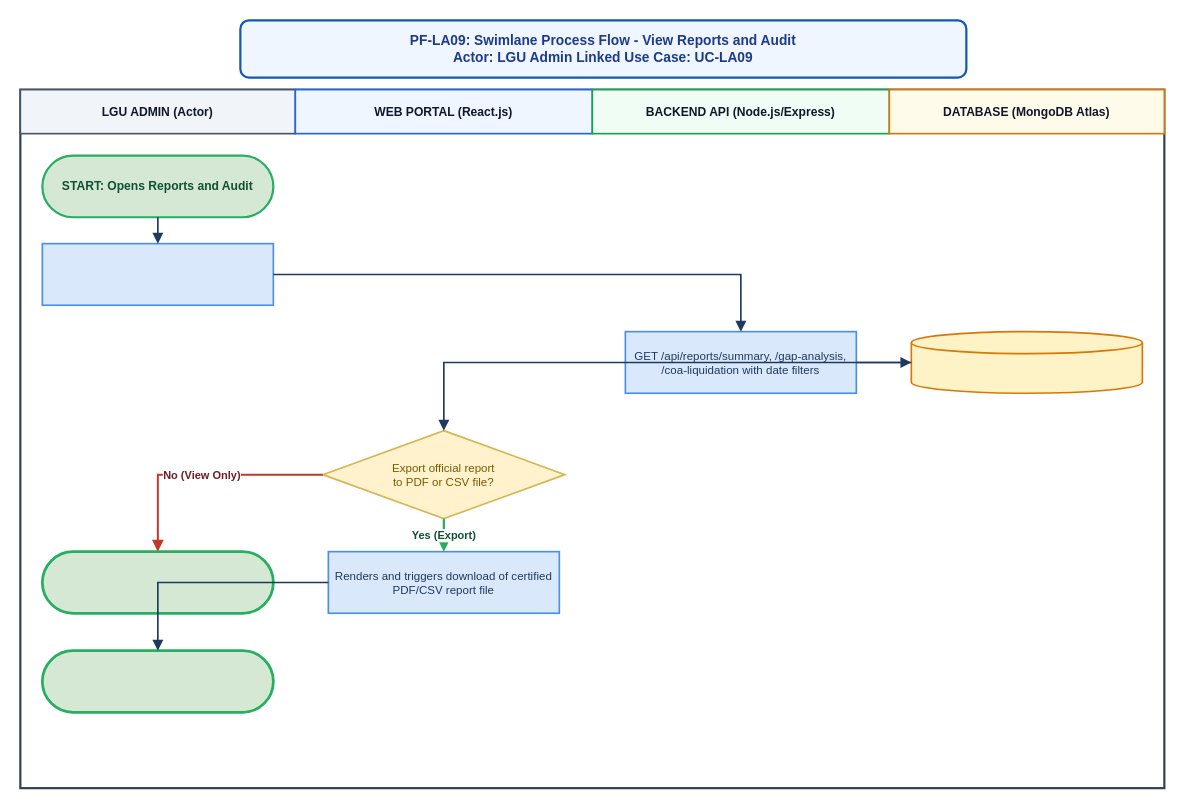
This 1184x807 diagram has some shape labels left out. The centre of each missing label's shape, as x and y in pixels:
END: Official report file exported: the point at 157,681
END: Report reviewed on dashboard: the point at 157,582
MongoDB: Aggregates claims, inventory logs, and incident metrics: the point at 1026,362
Selects module (Distribution, Gap Analysis, COA Liquidation, Incidents): the point at 157,274
